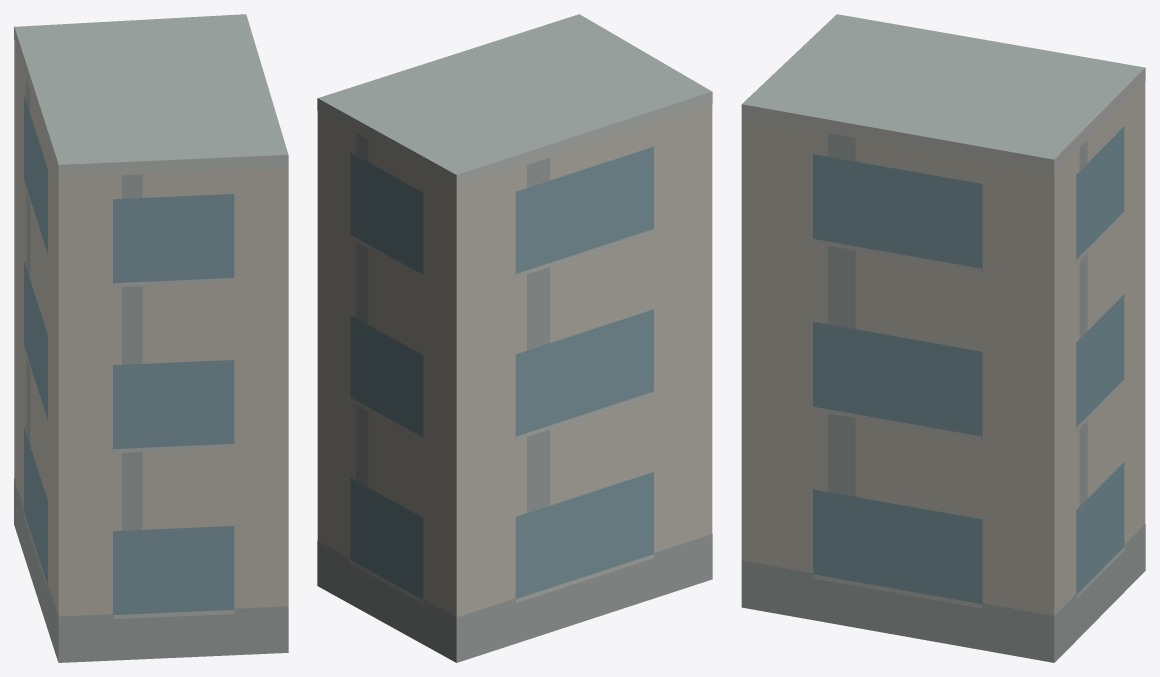
File: survey-upis-32531259.glb
The picture shows the model from 3 angles, left to right: view 1: azimuth 30°, elevation 25°; view 2: azimuth 150°, elevation 25°; view 3: azimuth 270°, elevation 25°; orthographic projection. The views are drawn at different scales.
Visible parts, largest first — view 1: survey-upis-32531259.tmp; view 2: survey-upis-32531259.tmp; view 3: survey-upis-32531259.tmp.
Boxes of the visible parts, box(x1,y1,x2,y2) form: survey-upis-32531259.tmp: box(14, 14, 288, 662); survey-upis-32531259.tmp: box(317, 14, 712, 662); survey-upis-32531259.tmp: box(741, 14, 1145, 662).
Size of the model in its own units: 5.69 by 9.15 by 6.66.
